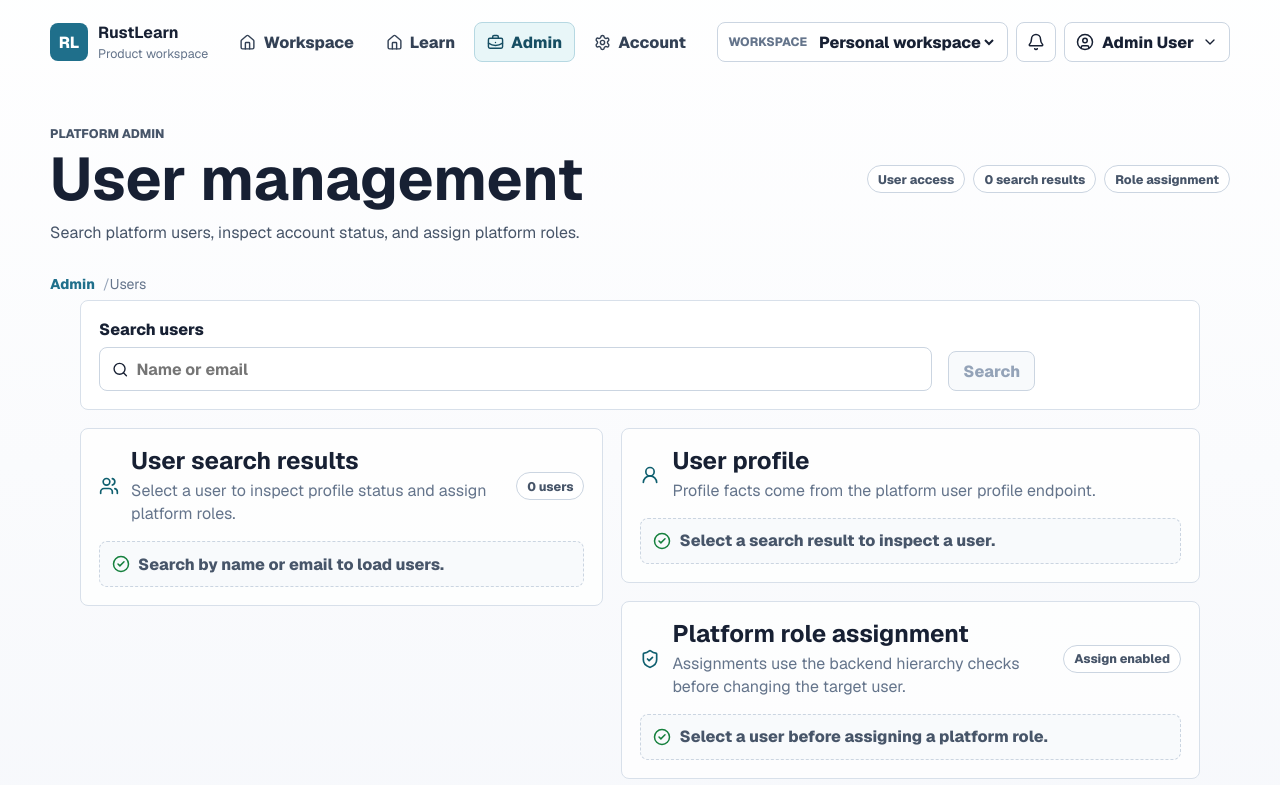
AdminUsersRoute › shows assignment backend errors without leaving the profile
Type "ada" into the field labelled "Search users" at (528, 369), box [136,348,919,390]
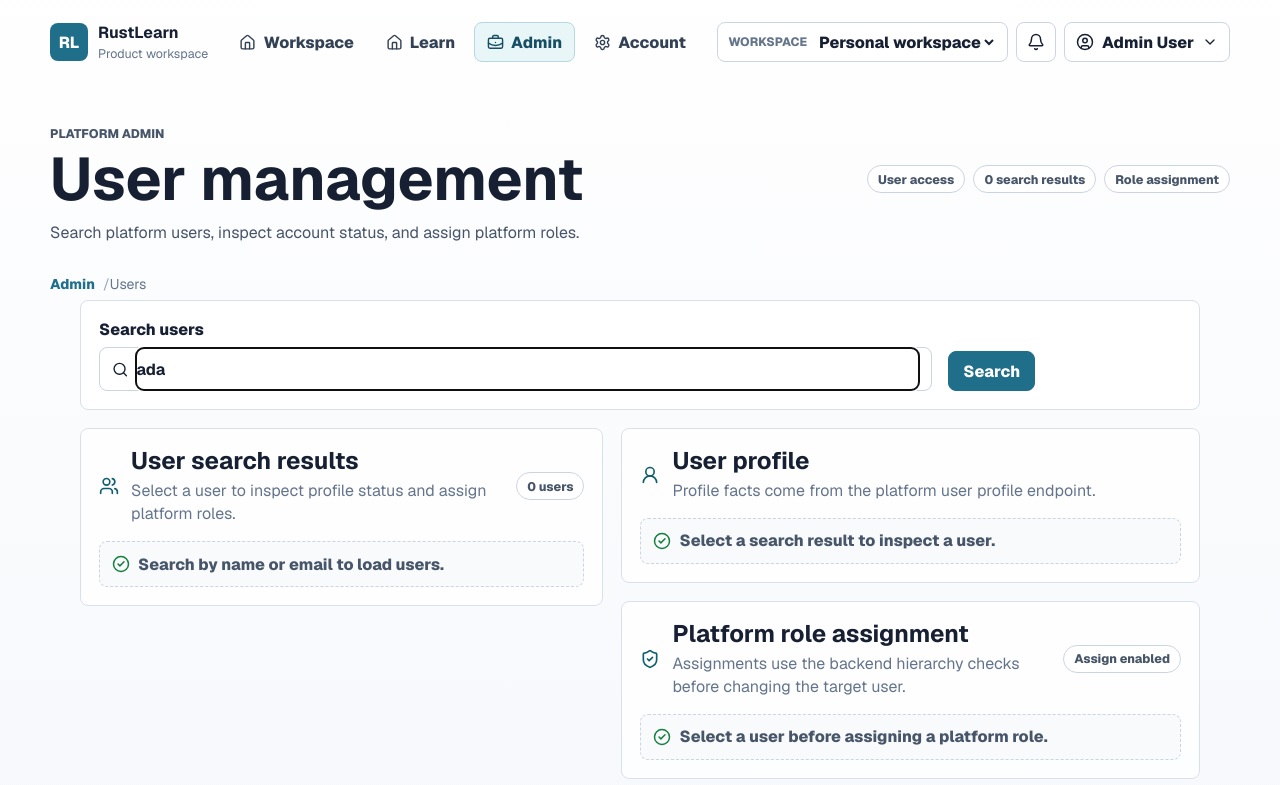
Click the button "Search" at (992, 371), box [948,351,1035,391]
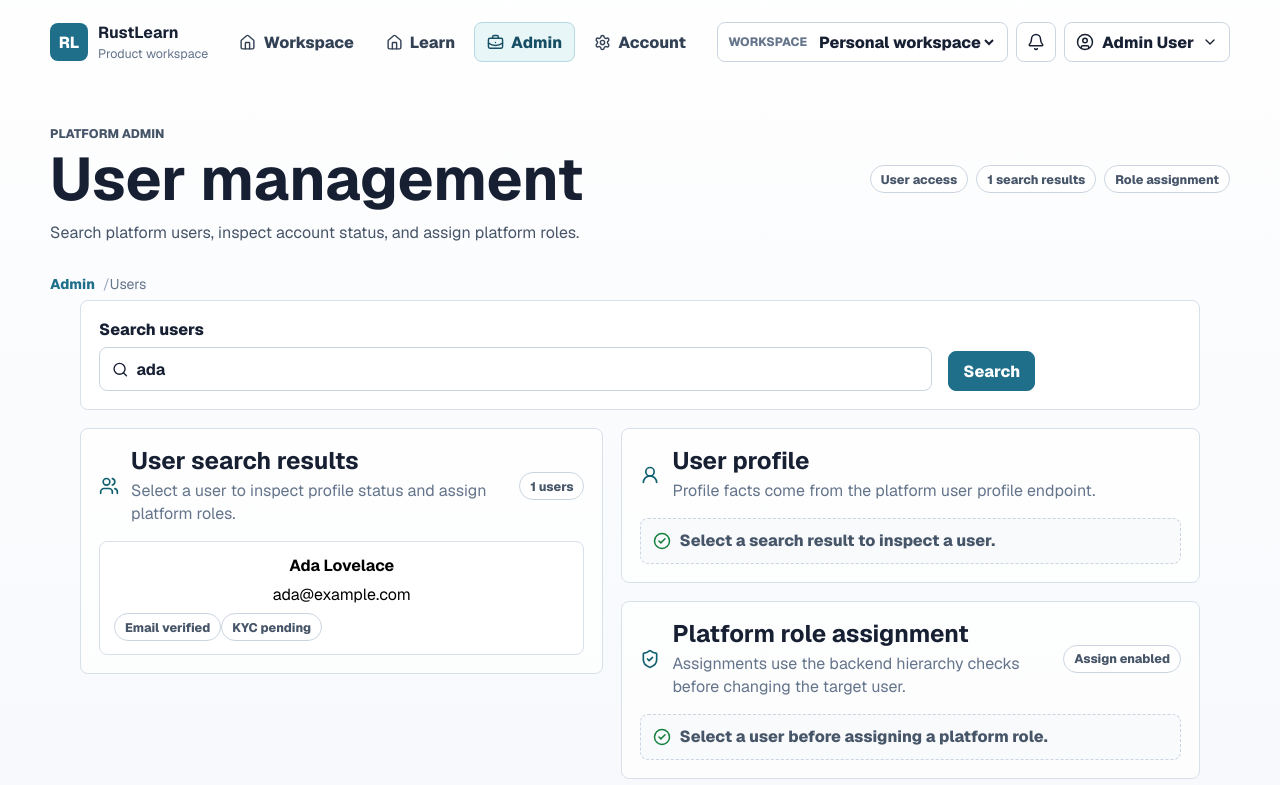
Click the button "Ada Lovelace ada@example.com Email verified KYC pending" at (342, 598), box [99,541,584,655]
(page scrolled)
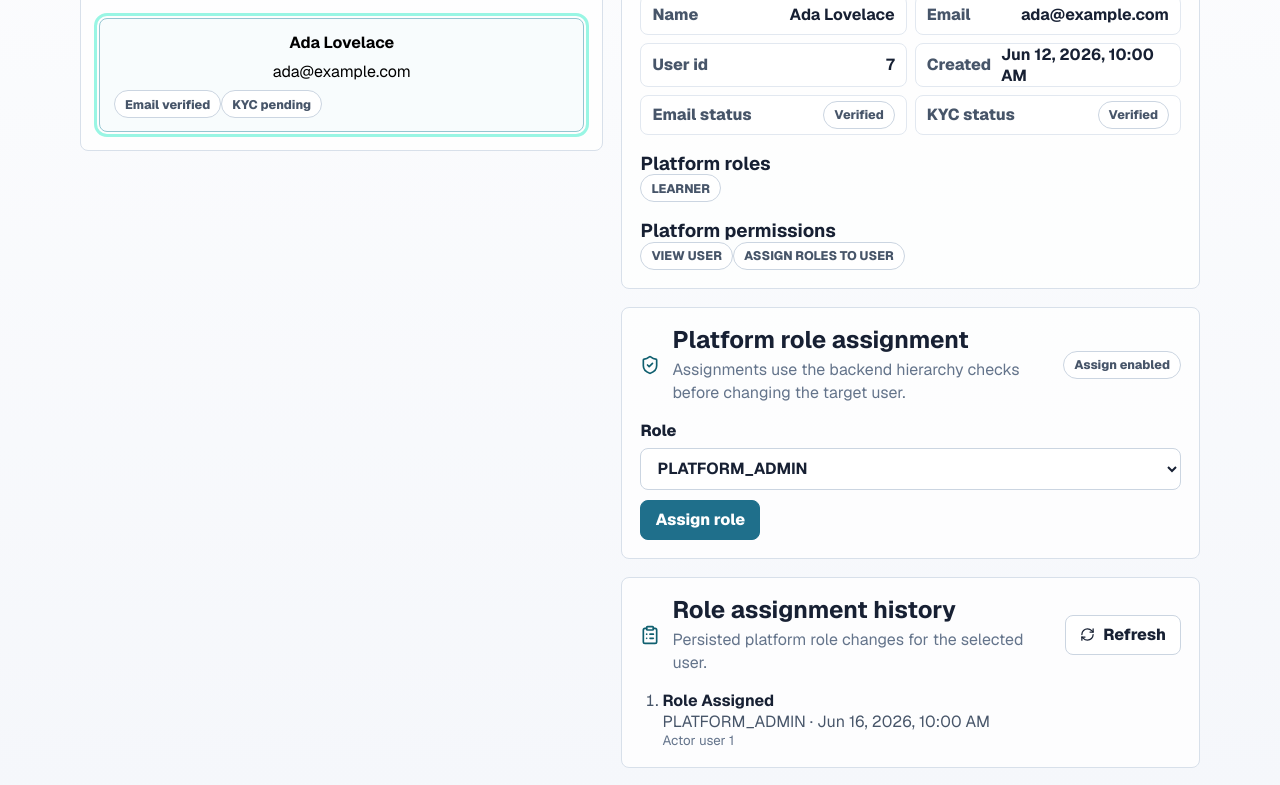
Click the button "Assign role" at (700, 520), box [640,500,760,540]
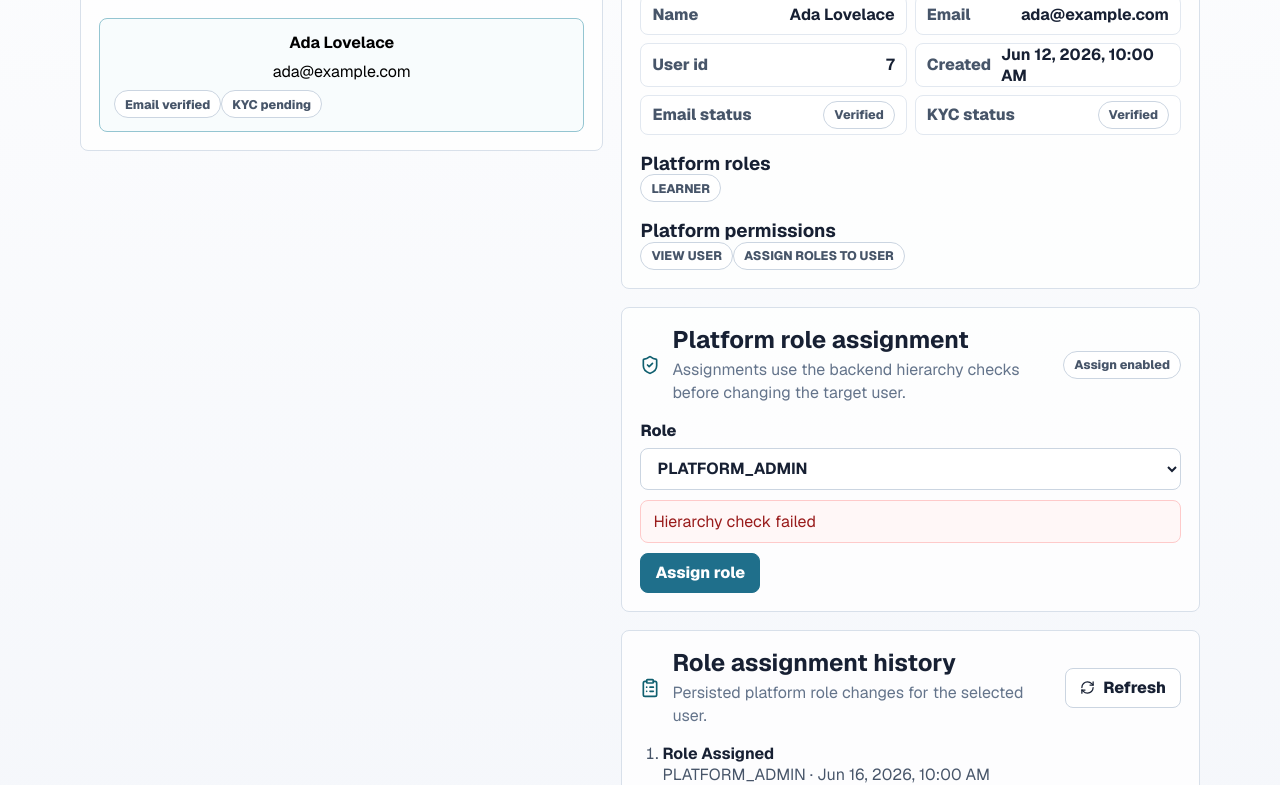
expect the text "ada@example.com" below "1 users" is shown: met, box [273,61,411,82]
expect the text "Hierarchy check failed" is shown: met, box [640,500,1181,543]
